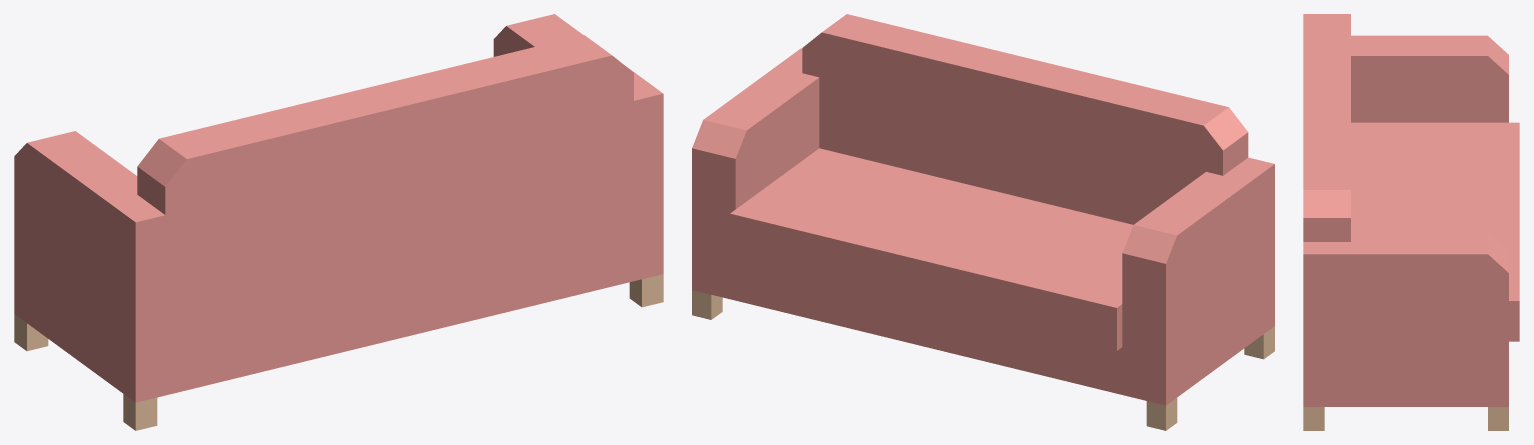
The model's file is loungeSofa.gltf.
3 views of the same model, side by side, from view 1: azimuth 30°, elevation 25°; view 2: azimuth 150°, elevation 25°; view 3: azimuth 270°, elevation 25° (orthographic). The views are drawn at different scales.
Visible parts, largest first — view 1: loungeSofa; view 2: loungeSofa; view 3: loungeSofa.
Part boxes in pixels (x1=…): loungeSofa: x1=14, y1=14, x2=663, y2=430; loungeSofa: x1=692, y1=14, x2=1274, y2=430; loungeSofa: x1=1303, y1=14, x2=1519, y2=430.
Size of the model in its own units: 9.8 by 4.6 by 4.1.
